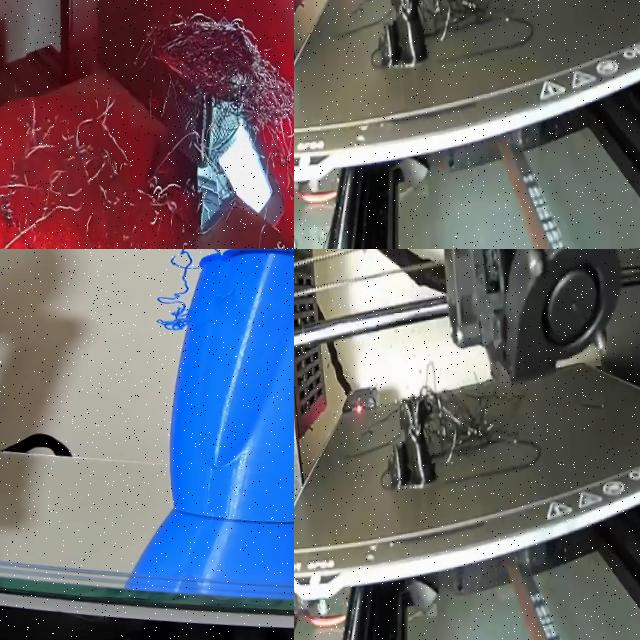spaghetti: (127, 13, 294, 232), (0, 93, 136, 249), (419, 361, 510, 464), (132, 249, 223, 324), (129, 190, 239, 249), (421, 0, 506, 44)
